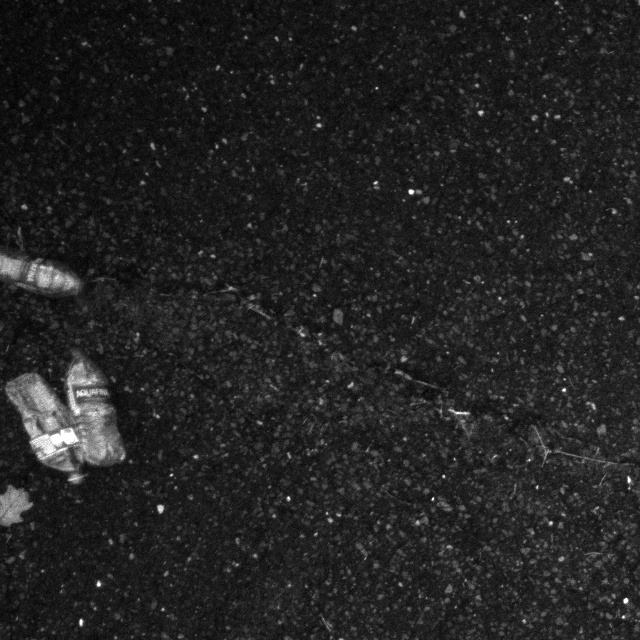bottle: (3, 366, 89, 490), (55, 349, 134, 480), (0, 228, 89, 314)
